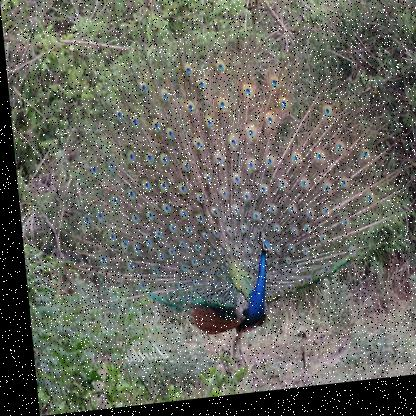Burung: (27, 3, 413, 389)
